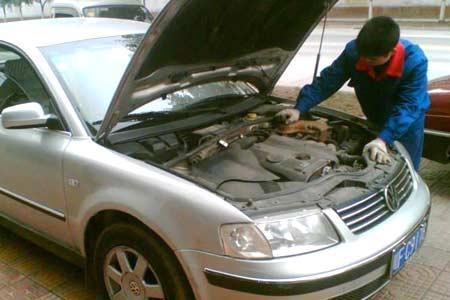person: (277, 16, 431, 173)
